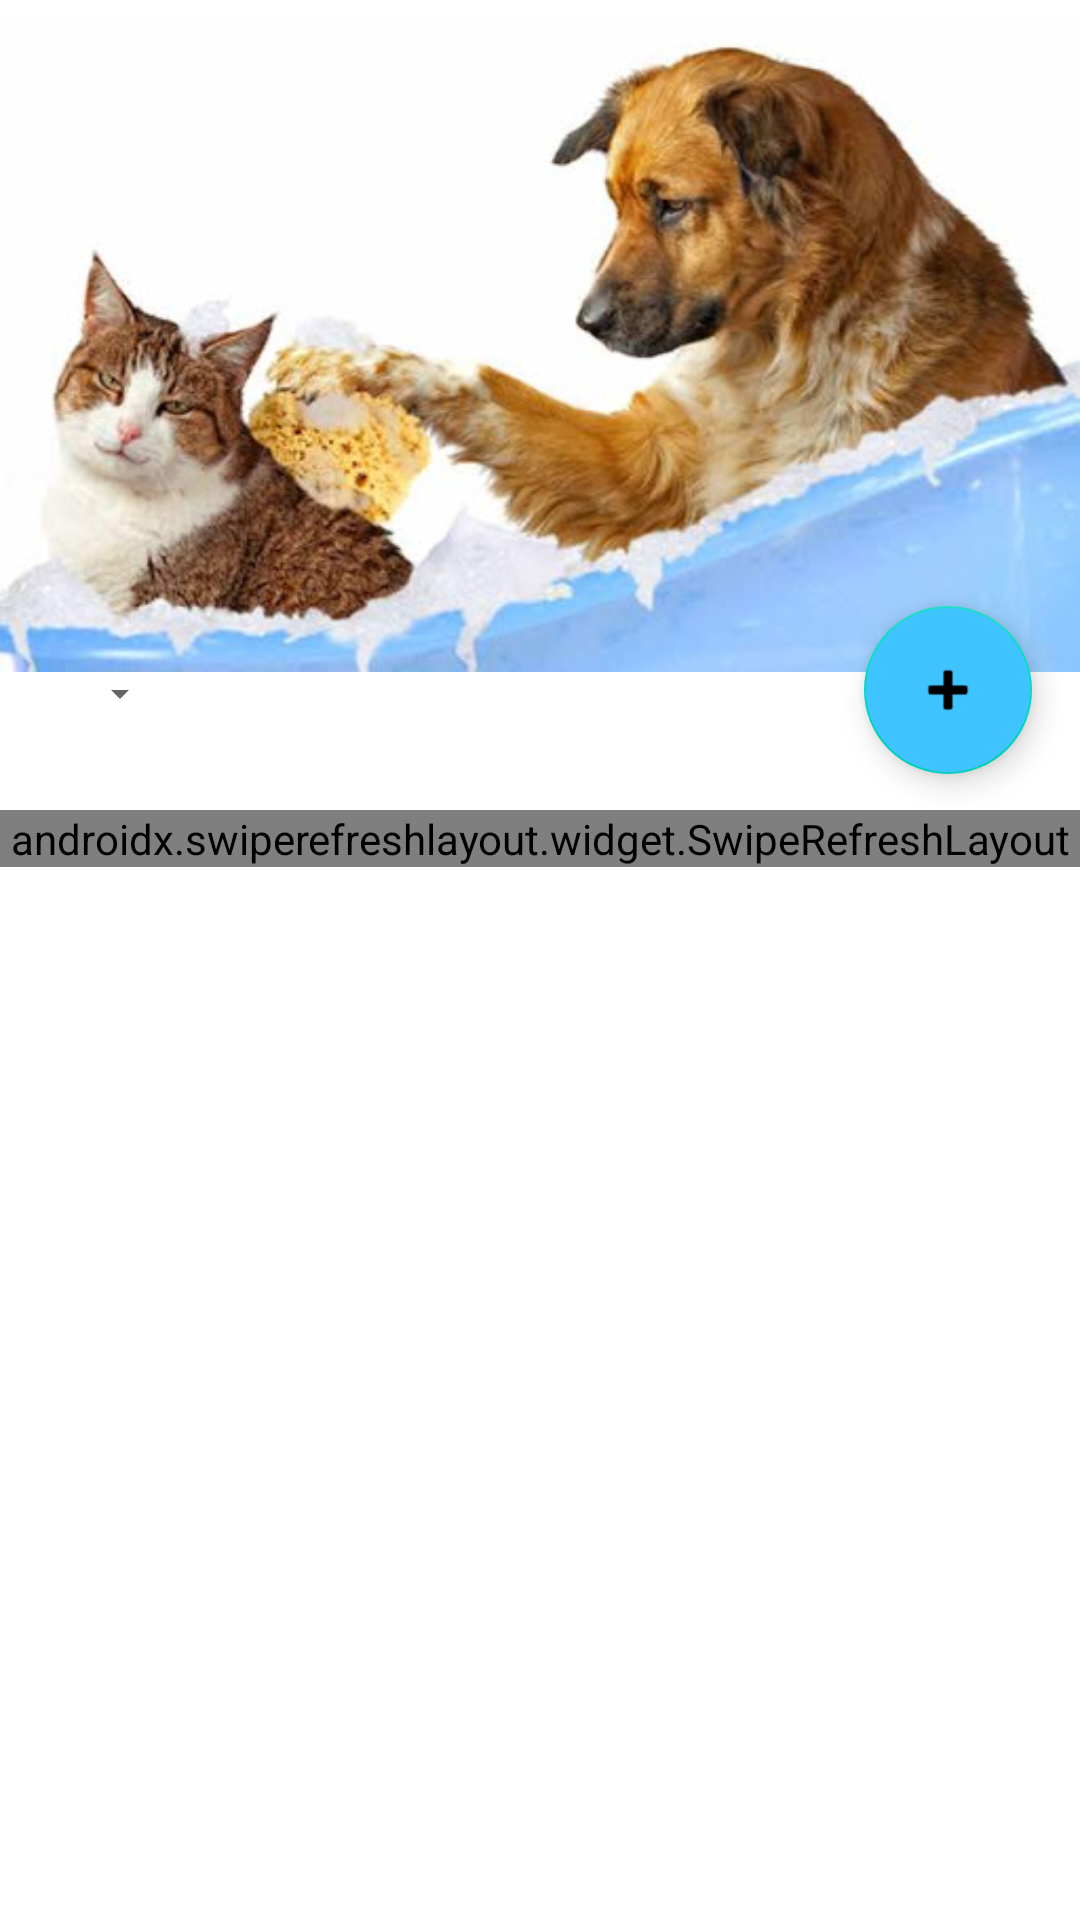

Screen size 1080x1920. Icon name, then its center in pixels as [x,y]:
add: [948,690]
